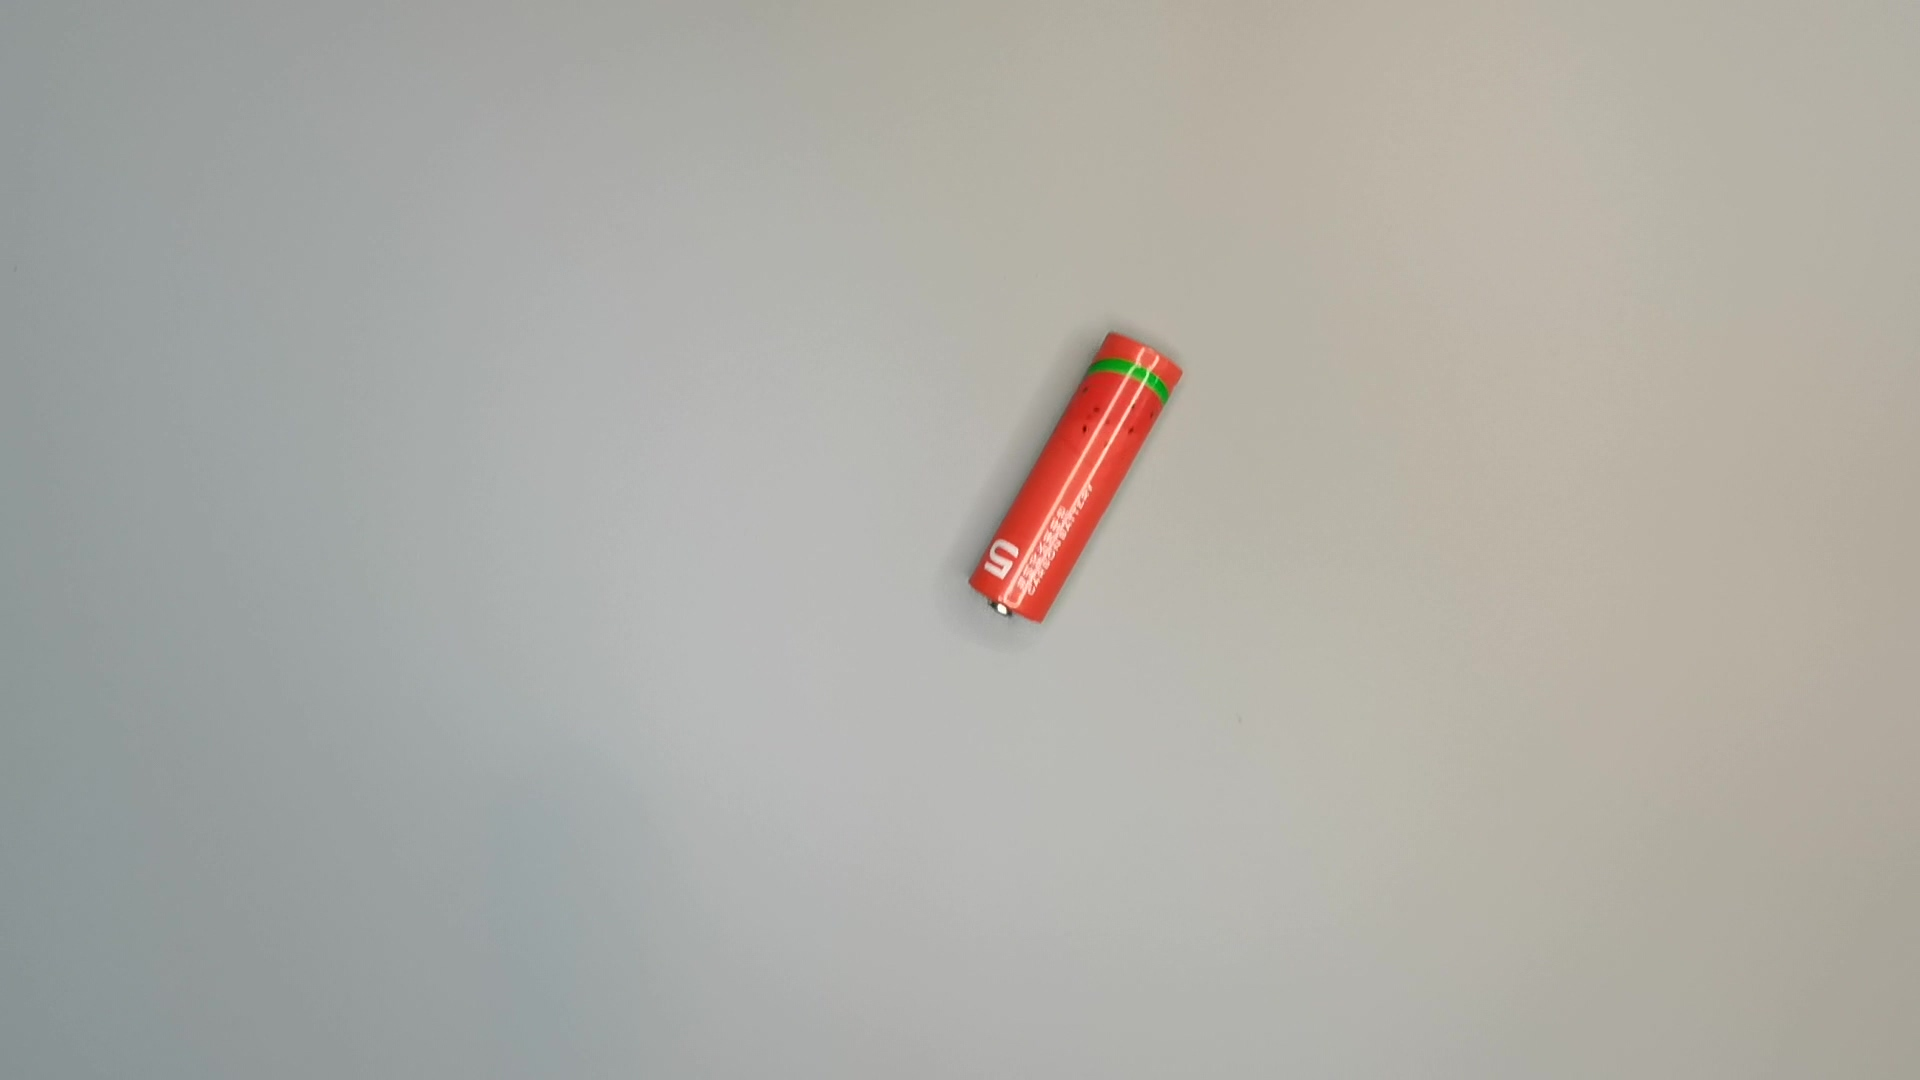battery: (967, 324, 1192, 632)
